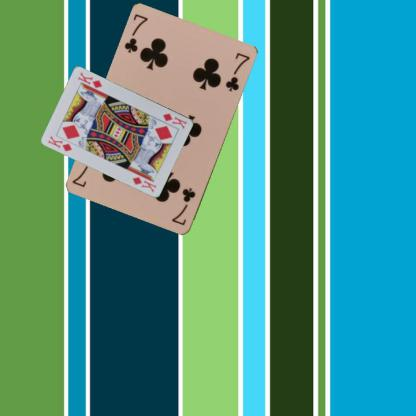7c: (122, 11, 150, 55), (169, 185, 197, 227)
Kd: (161, 110, 188, 130), (45, 133, 73, 152)
